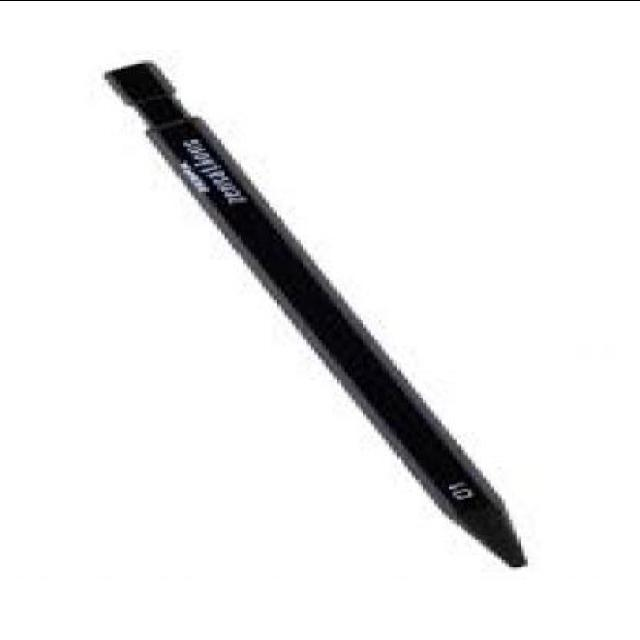Pencil: (424, 472, 544, 576)
